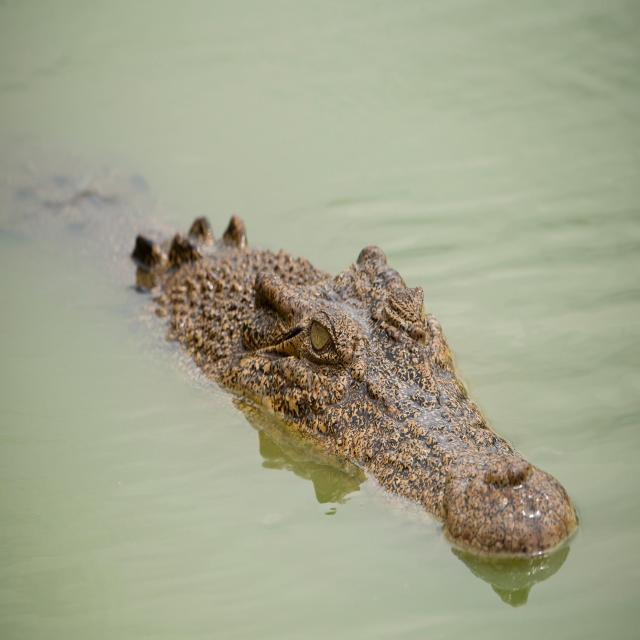crocodile: (133, 202, 580, 554)
